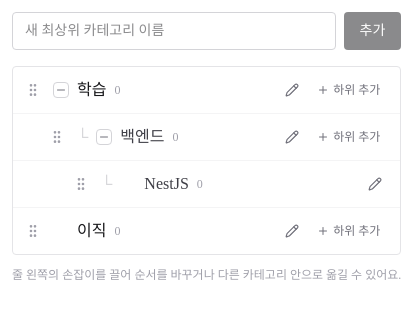
Test case: CategoryManager: 이름 수정 › 같은 부모 아래 형제와 같은 이름이면 오류 문구를 보여주고 입력창을 유지하며 요청하지 않는다
Click the button named "이직 이름 수정". click: (292, 231)
box: [279,218,305,244]
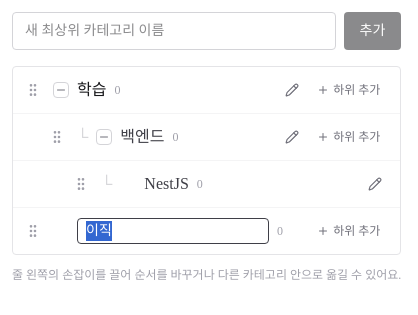
Replace the text in the field named "이직 새 이름" with "학습". click: (173, 231)
box: [77,218,269,244]
Then press Enter
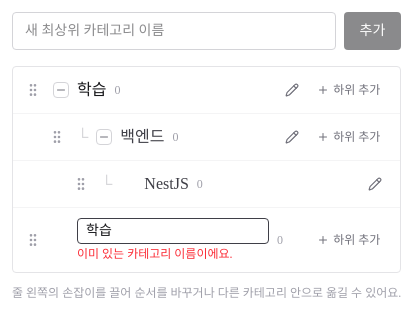
Expected: the message shows "이미 있는 카테고리 이름", [77,247,232,261]
